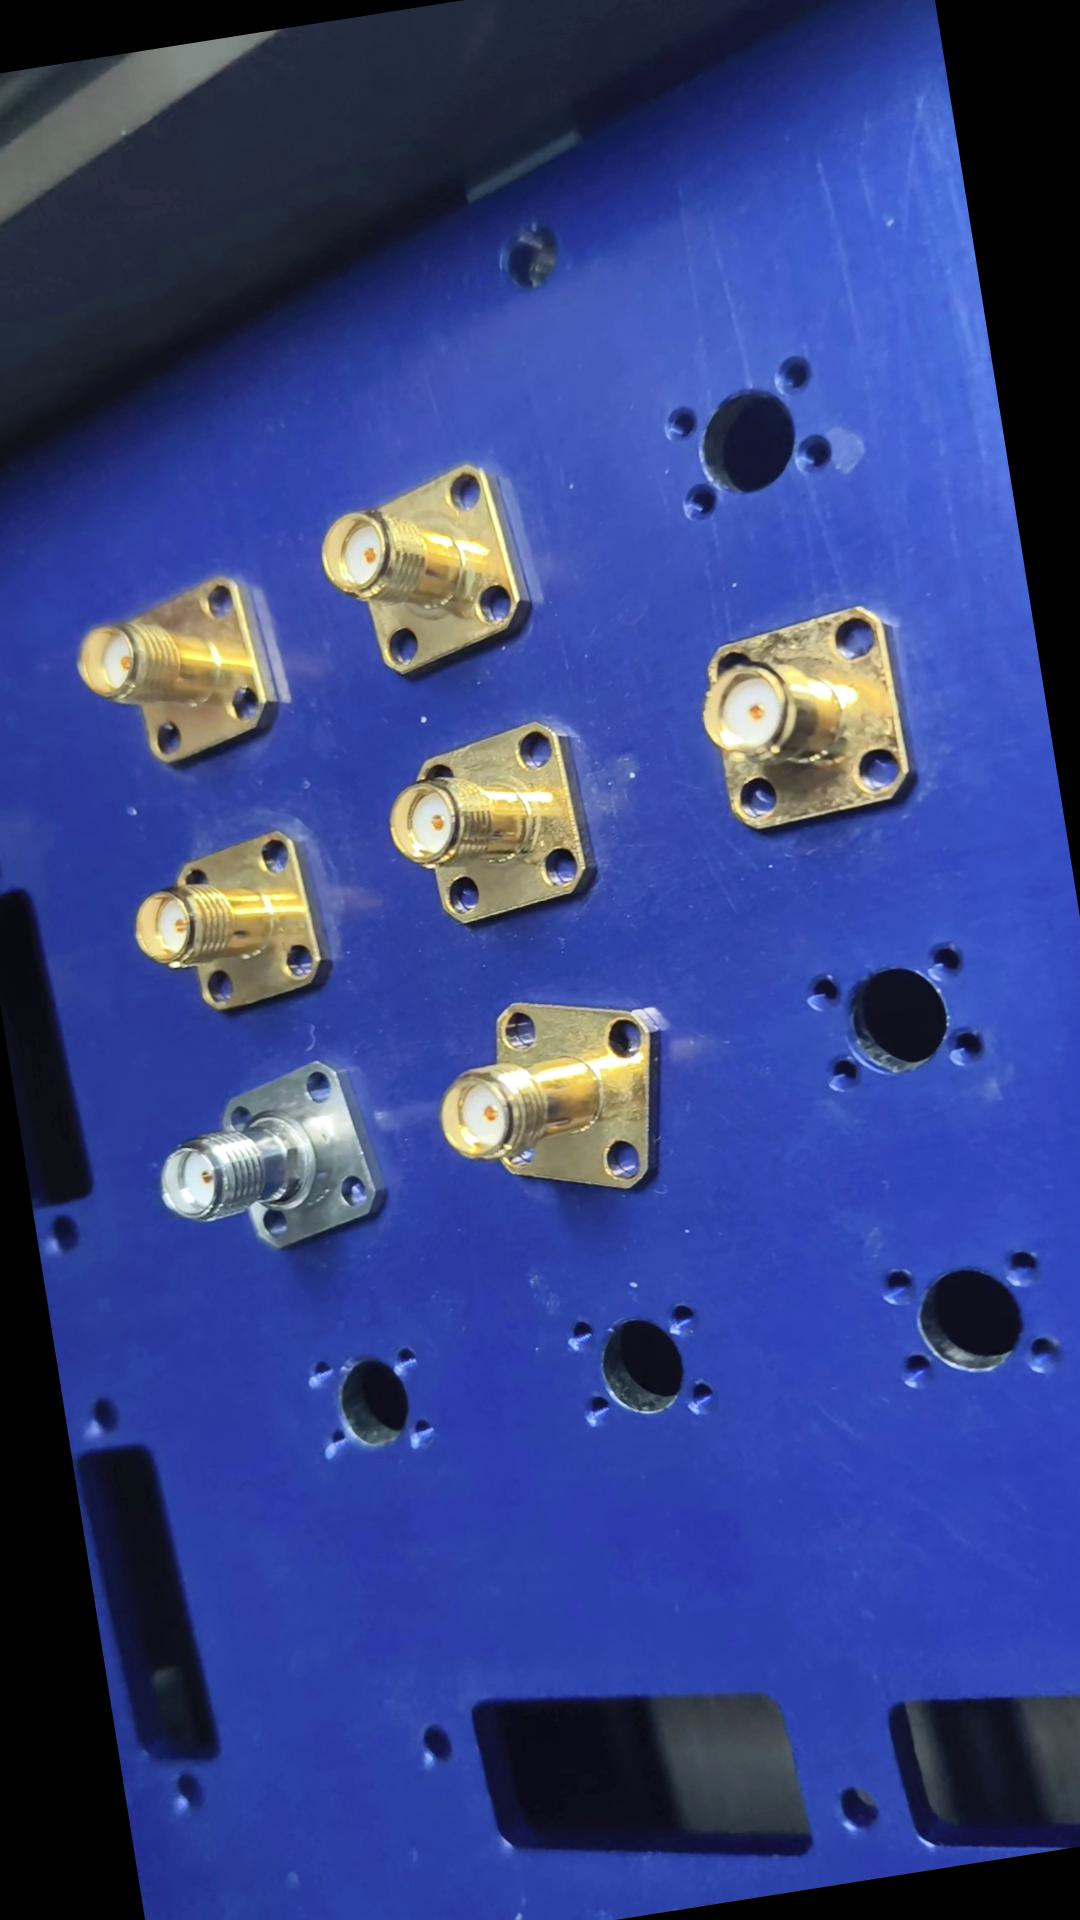SMA: (425, 978, 687, 1218), (684, 600, 927, 840), (141, 1048, 397, 1269), (371, 713, 613, 939), (318, 454, 549, 686), (65, 572, 291, 779), (120, 819, 340, 1027)
